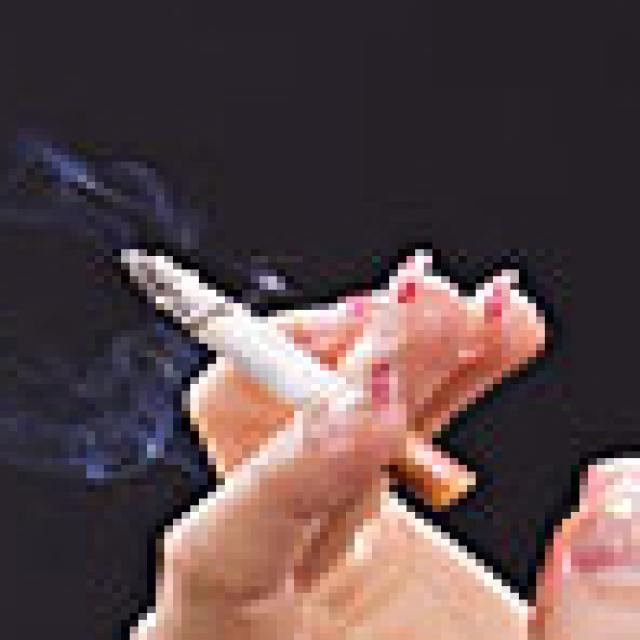smoking: (104, 253, 473, 512)
